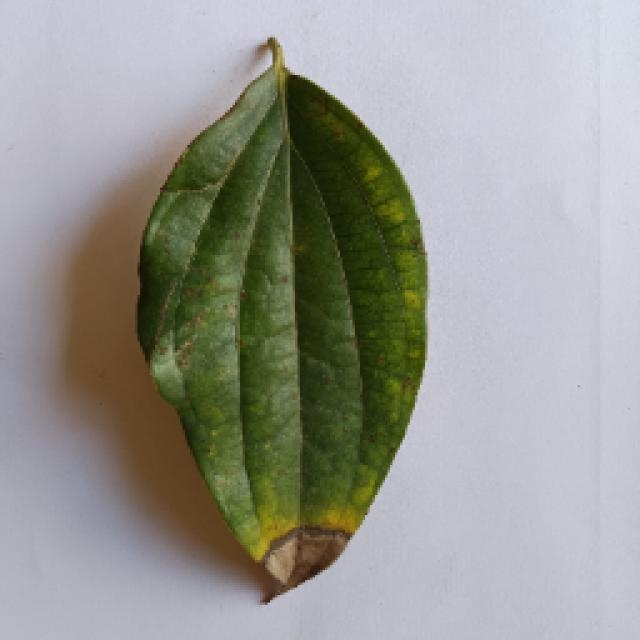footrot: (128, 42, 430, 600)
